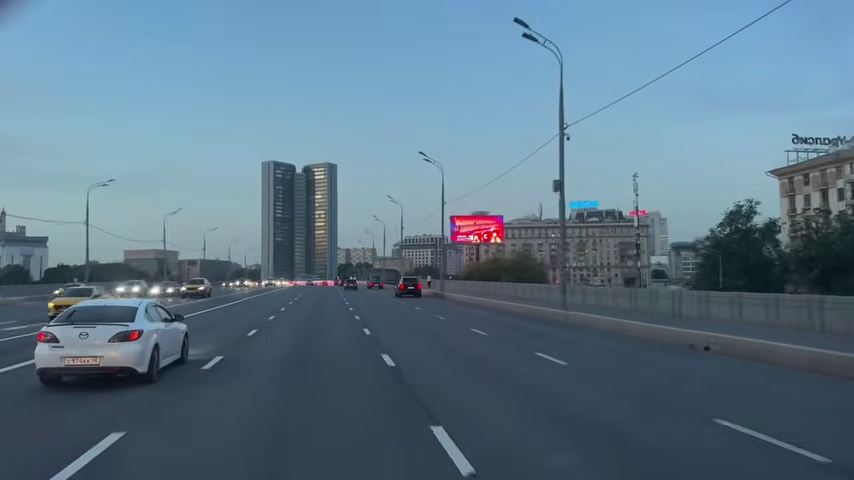apagada: (511, 18, 538, 47), (414, 149, 433, 167), (99, 176, 117, 190), (169, 206, 183, 220)
